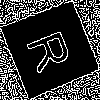R: (25, 24, 82, 76)
